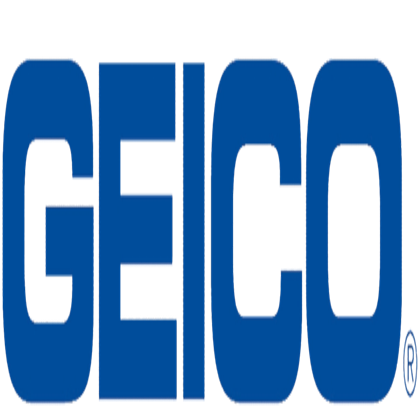Geico: (7, 59, 396, 395)
